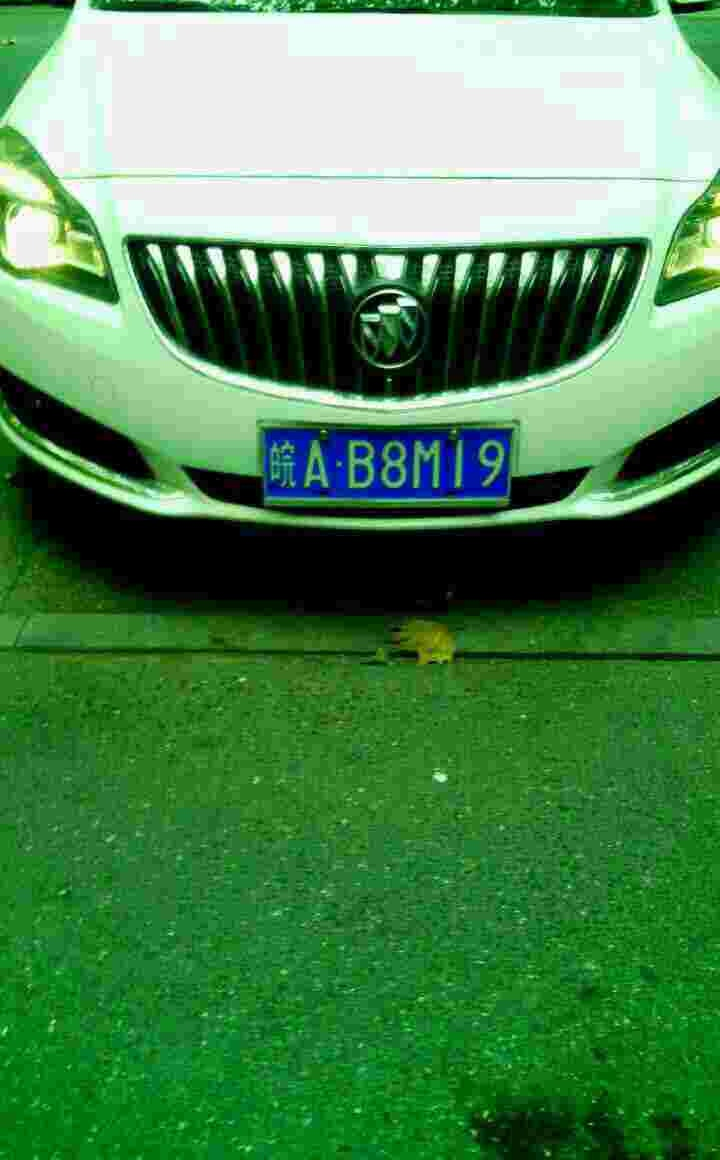license_plate: (261, 429, 522, 503)
